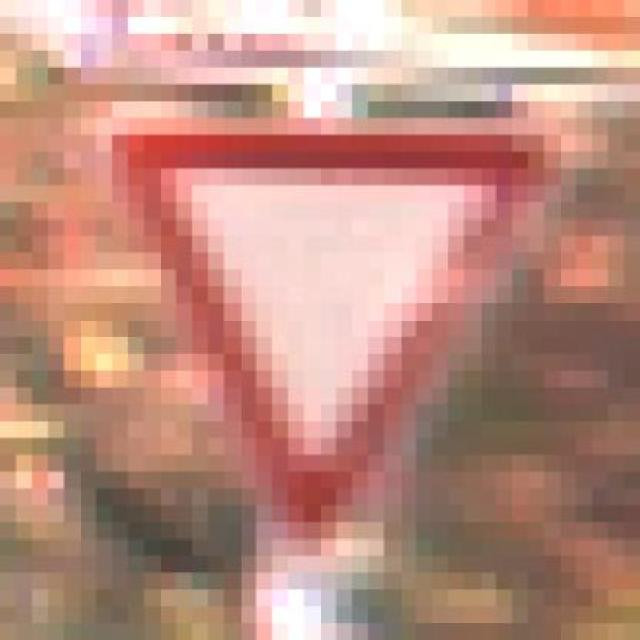Give Way: (96, 118, 544, 590)
